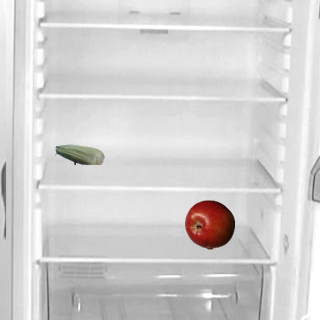Apple Braeburn: (184, 199, 234, 249)
Corn Husk: (54, 129, 104, 179)
